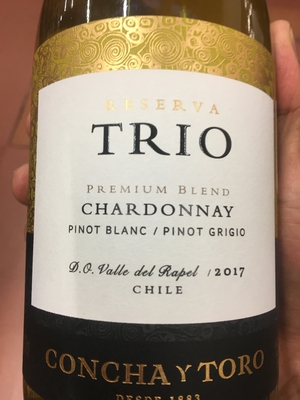trio chardonnay: (27, 15, 288, 400)
